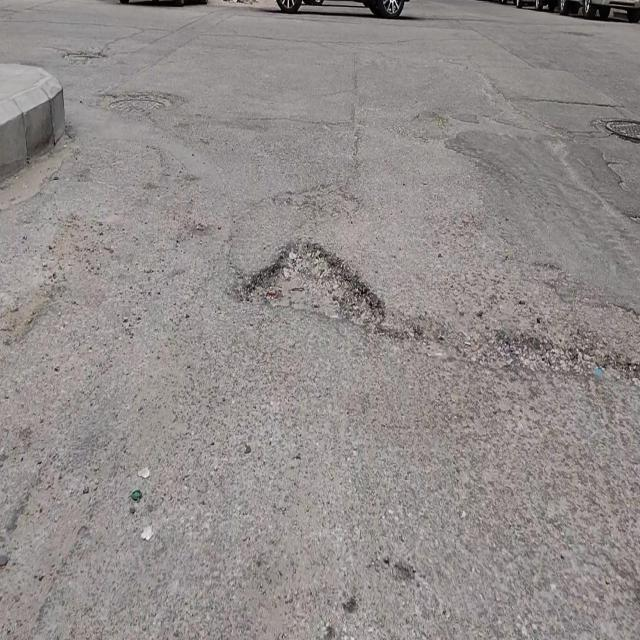Pothole: (249, 233, 390, 332)
